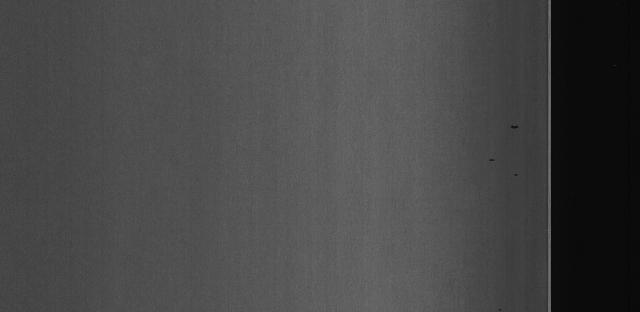inclusion: (483, 150, 498, 165), (507, 167, 523, 179)
oil_spot: (503, 119, 524, 134)
